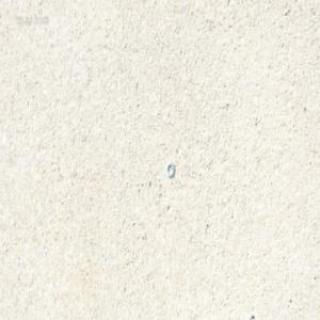Washertrack_idkeyframe: (166, 161, 173, 177)
